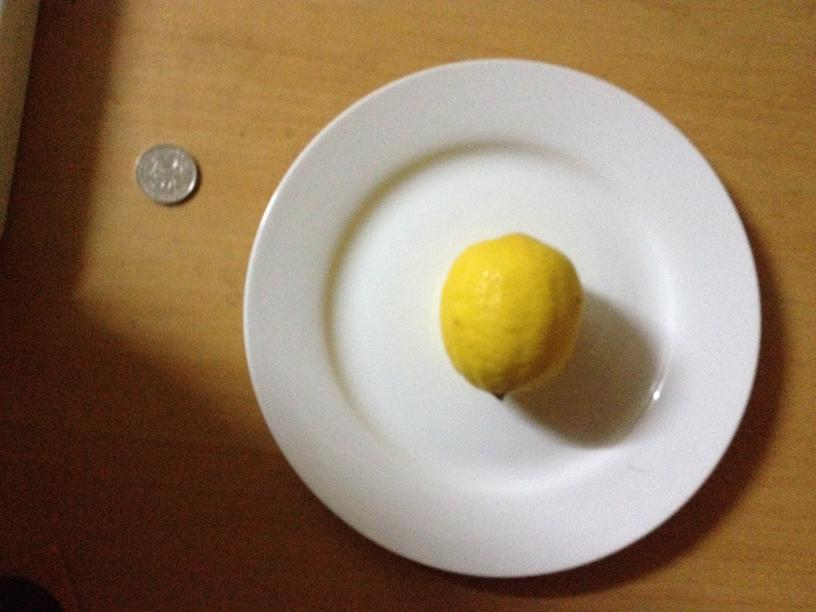coin: (135, 143, 199, 207)
lemon: (439, 231, 582, 396)
